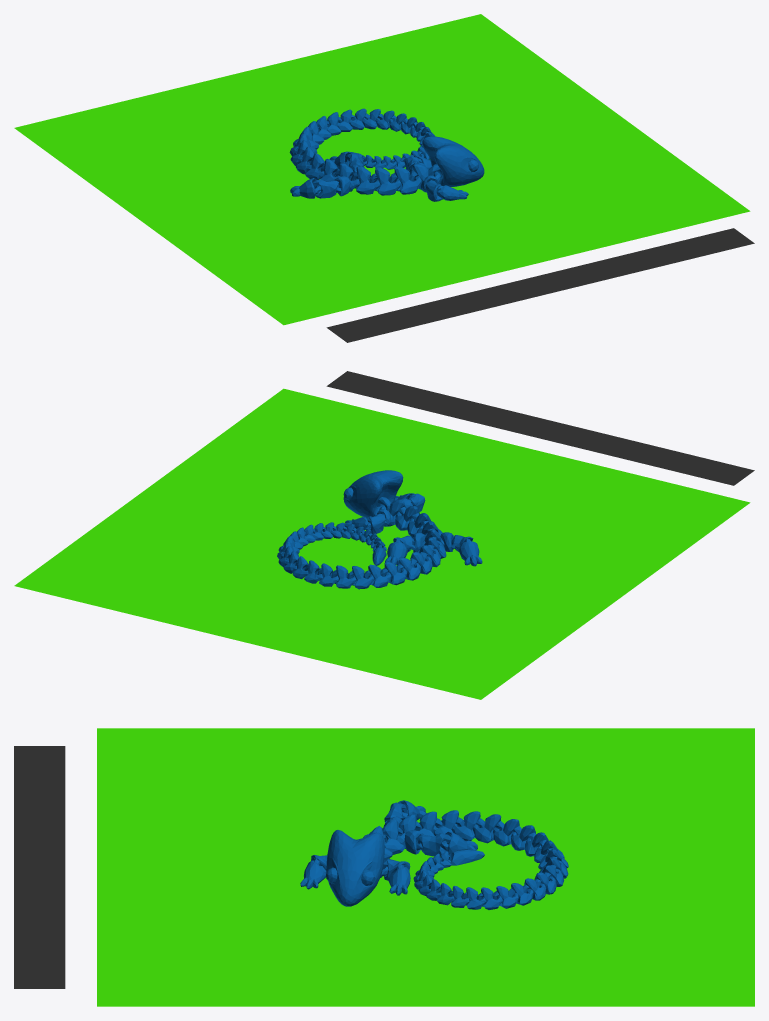
The model's file is BabyGecko_X1.glb.
3 views of the same model, one above another, from view 1: azimuth 30°, elevation 25°; view 2: azimuth 150°, elevation 25°; view 3: azimuth 270°, elevation 25° (orthographic). The views are drawn at different scales.
Visible parts, largest first — view 1: Plane, DRAGON_001.002, Plane.001; view 2: Plane, DRAGON_001.002, Plane.001; view 3: Plane, DRAGON_001.002, Plane.001.
Boxes of the visible parts, box(x1,y1,x2,y2) form: Plane: box(14, 14, 750, 325); DRAGON_001.002: box(289, 108, 484, 201); Plane.001: box(326, 228, 754, 342); Plane: box(14, 388, 750, 699); DRAGON_001.002: box(277, 470, 482, 589); Plane.001: box(326, 371, 754, 485); Plane: box(97, 728, 754, 1006); DRAGON_001.002: box(300, 800, 568, 909); Plane.001: box(14, 746, 65, 988).
Bounding box in the file's own units: 0.22 × 0.0187 × 0.2477.
